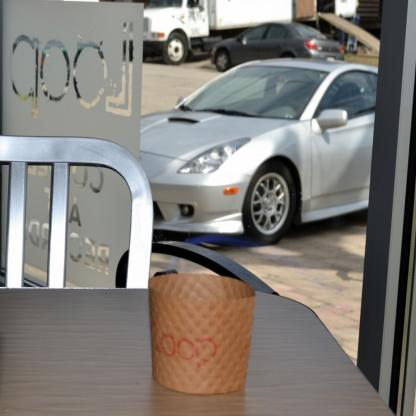Car: (141, 61, 382, 246), (212, 23, 347, 73)
